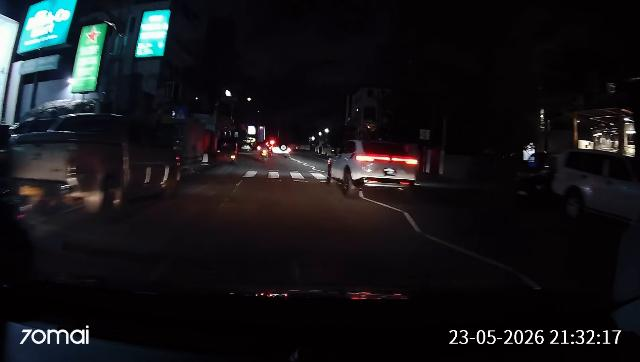illegal overtaking: (322, 136, 428, 207)
